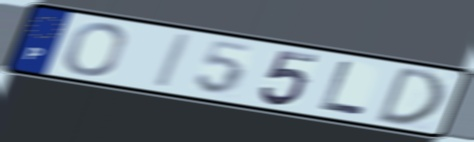5: (192, 37, 257, 97), (257, 48, 323, 106)
D: (372, 64, 448, 127)
I: (151, 32, 195, 91)
L: (317, 59, 368, 118)
O: (62, 21, 129, 77)
